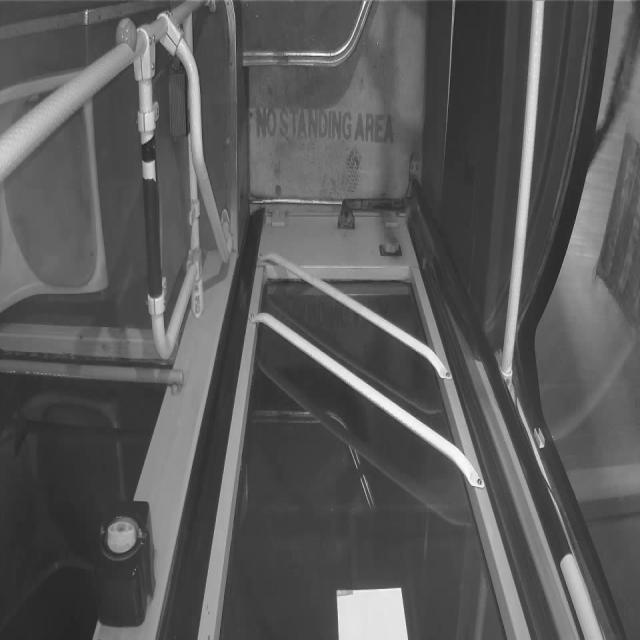close: (196, 209, 532, 638)
